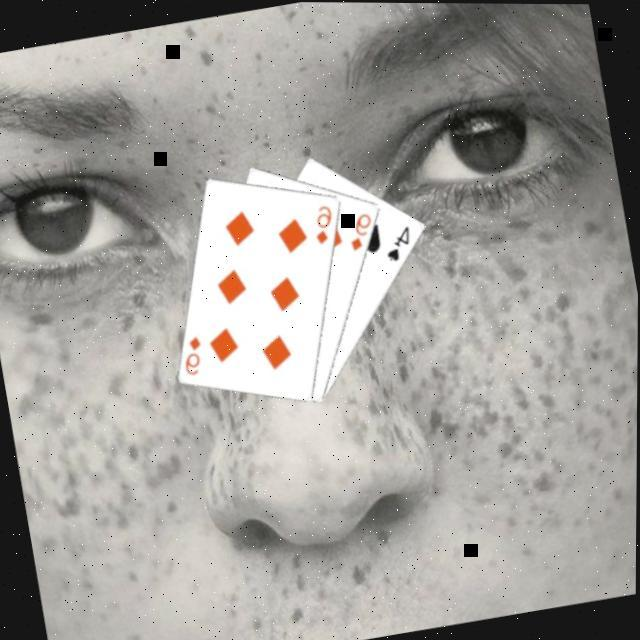4S: (380, 220, 418, 262)
6D: (308, 198, 340, 245), (178, 329, 210, 376)
9D: (342, 206, 380, 252)
